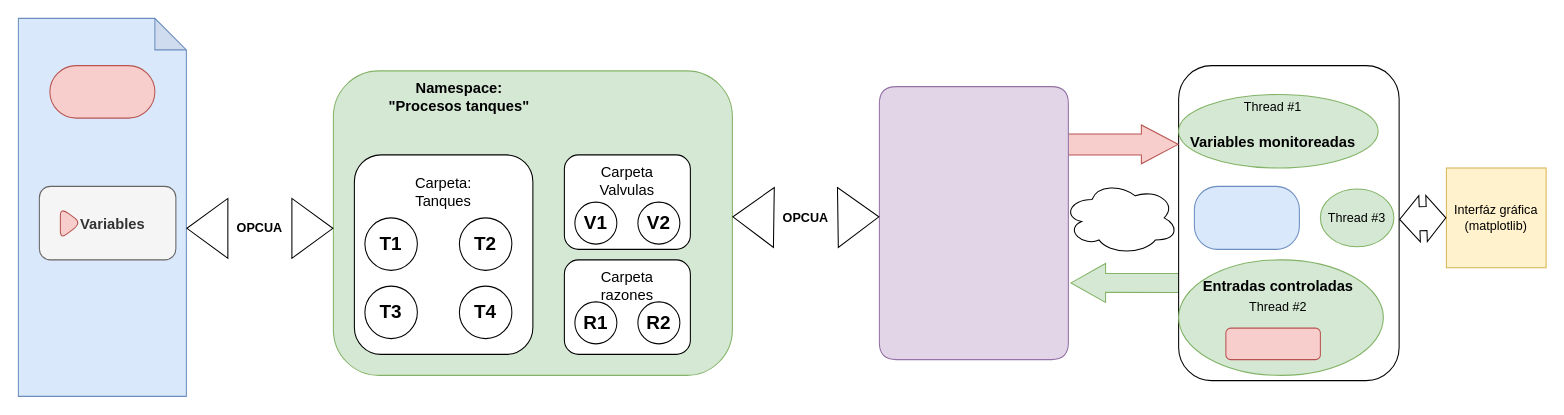
Image size: 1564x415. Some labels were removed from this diagram. The centre of each missing label's shape, as x and y in pixels:
"Cliente" goes at [1246,217].
"Lazo de control" goes at [1272,343].
"Modelo simulado" goes at [102,91].
"Protocolo internet" goes at [1120,217].
"Servidor" goes at [973,223].
